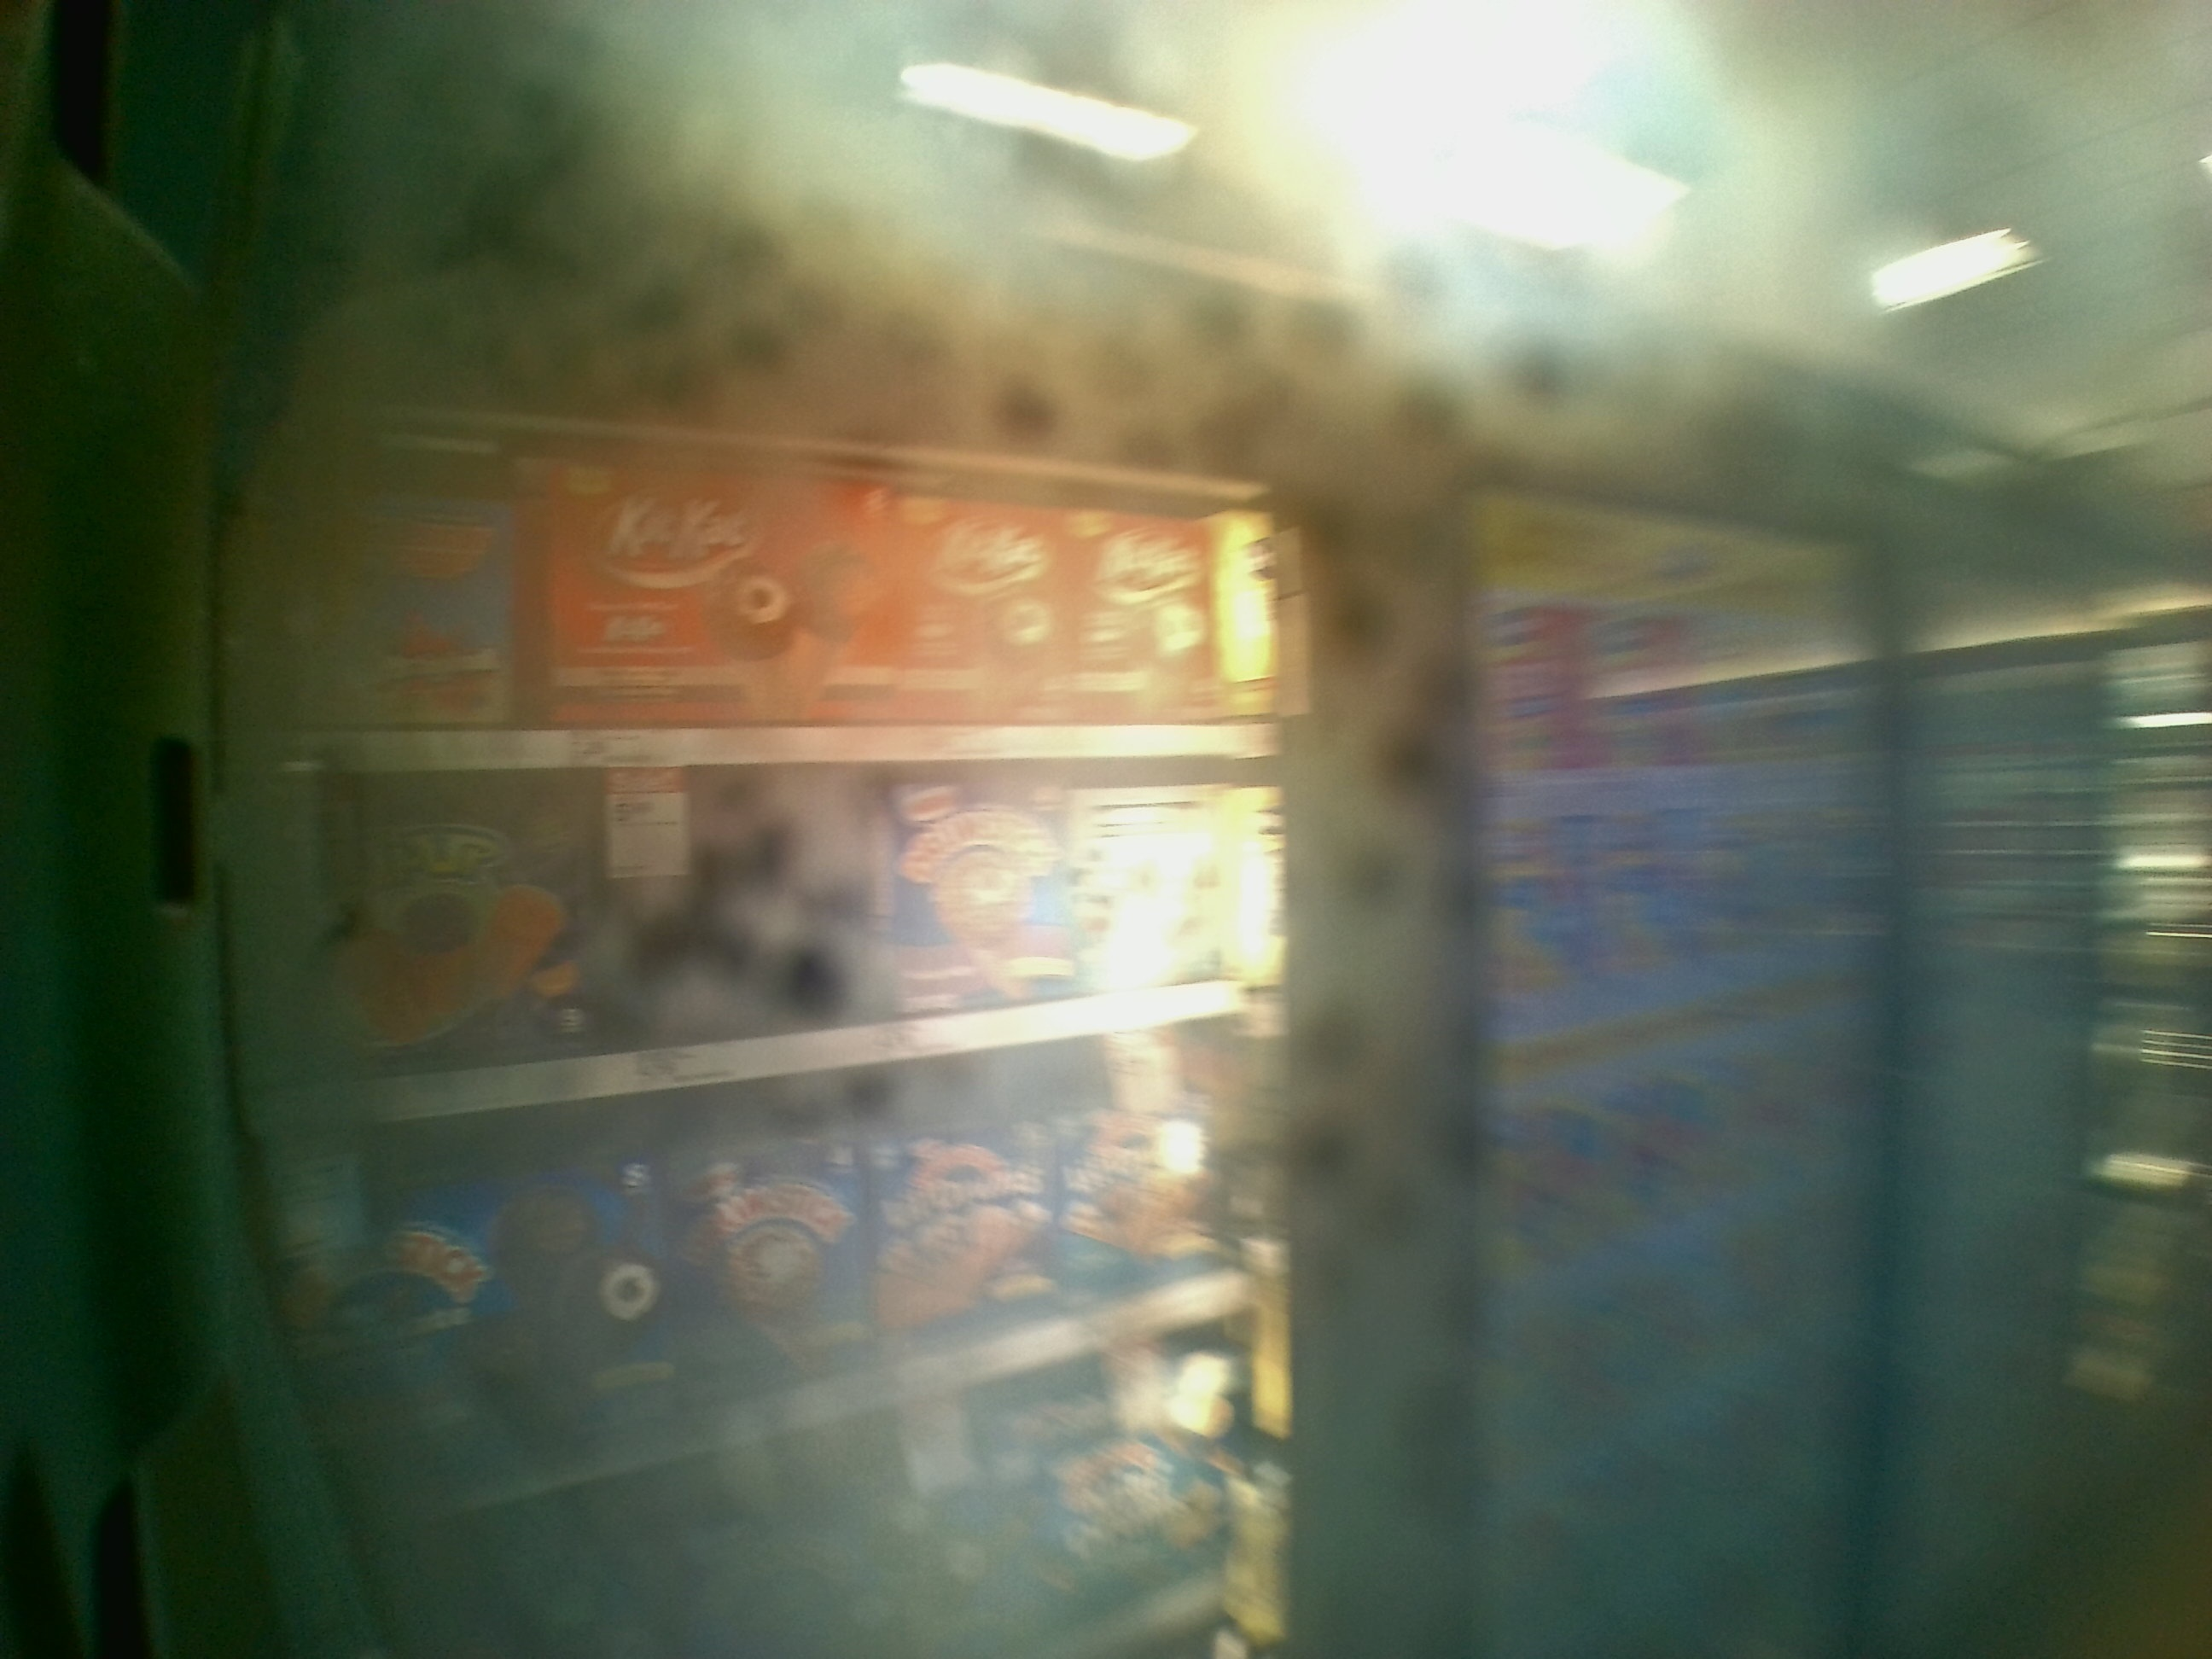shelf: (228, 763, 1282, 1140), (233, 401, 1264, 763)
